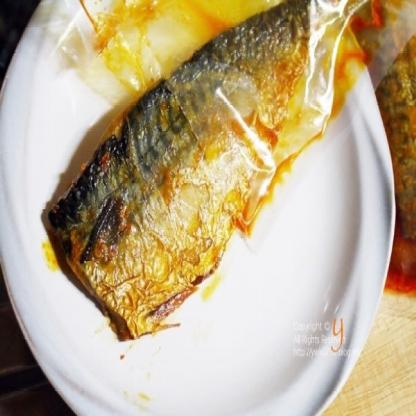Peixe: (29, 0, 376, 343)
